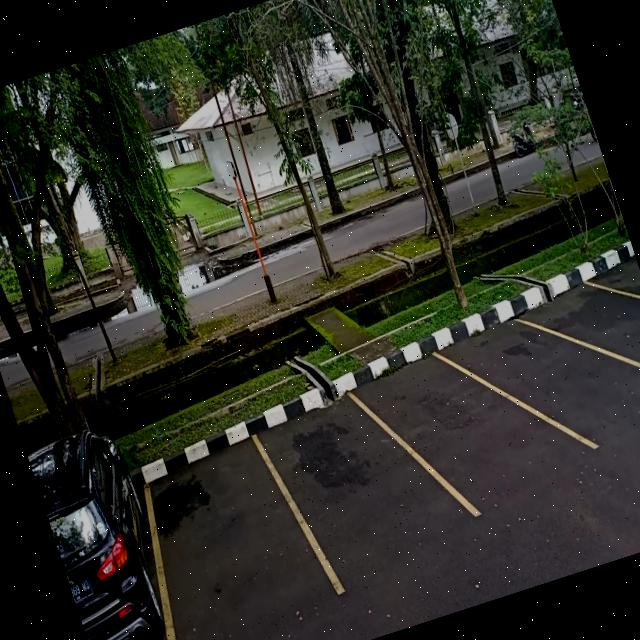empty: (260, 363, 448, 600), (128, 422, 325, 640), (381, 320, 553, 532), (491, 289, 637, 476)
occupied: (40, 464, 199, 640)
